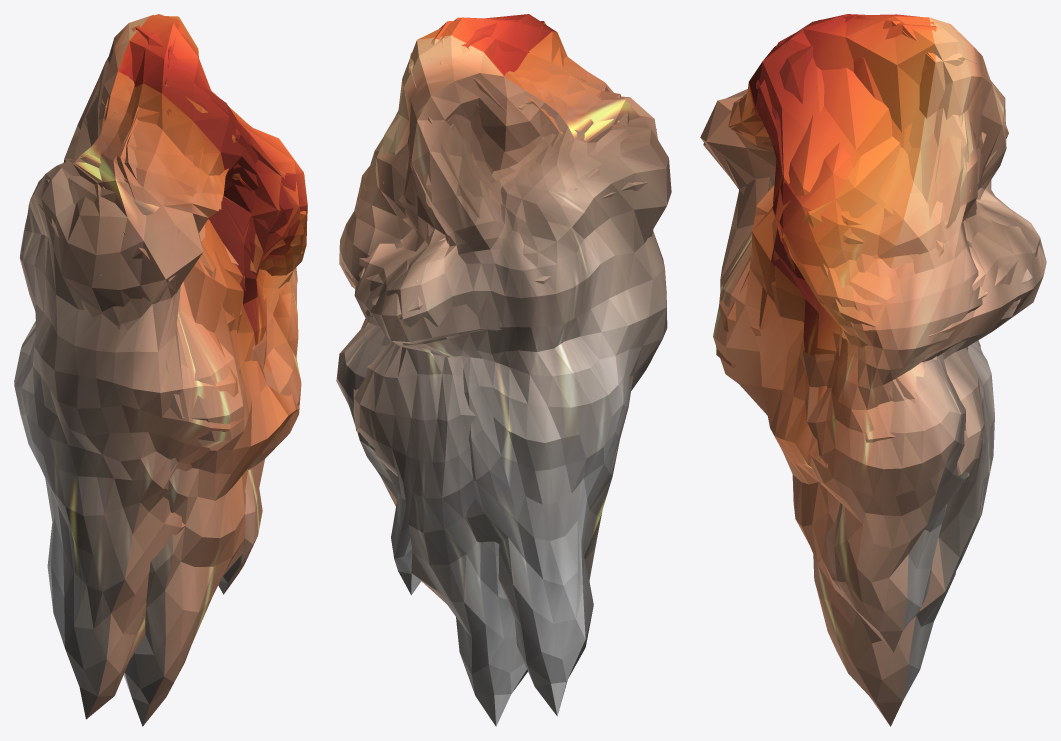
File: humo.fbx
The picture shows the model from 3 angles, left to right: view 1: azimuth 30°, elevation 25°; view 2: azimuth 150°, elevation 25°; view 3: azimuth 270°, elevation 25°; orthographic projection. The views are drawn at different scales.
Parts seen in each view (by area): view 1: Humo; view 2: Humo; view 3: Humo.
Part boxes in pixels (bbox=[...]): Humo: bbox=[14, 14, 307, 726]; Humo: bbox=[336, 14, 671, 726]; Humo: bbox=[700, 14, 1046, 726].
Bounding box in the file's own units: 905 × 2156 × 931.
Materials: 1 (1 with a texture image).
